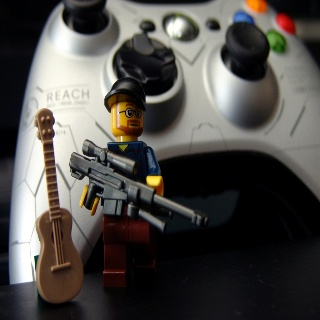rifle: (68, 138, 210, 236)
